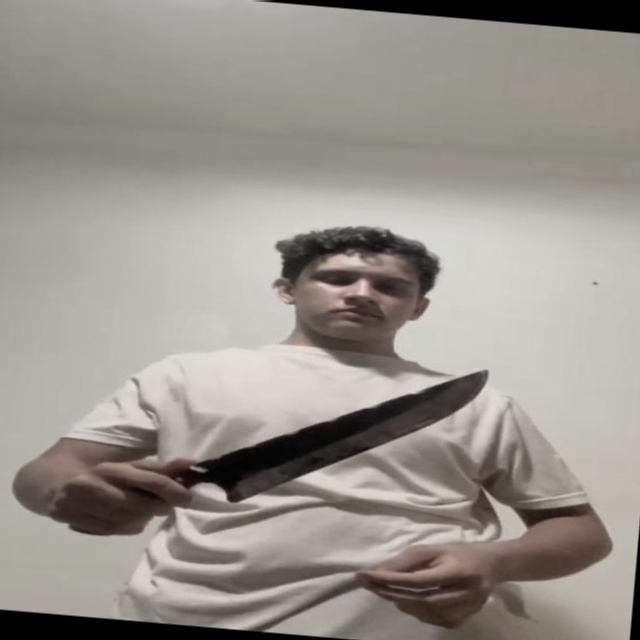Sharp-Object: (198, 346, 486, 517)
